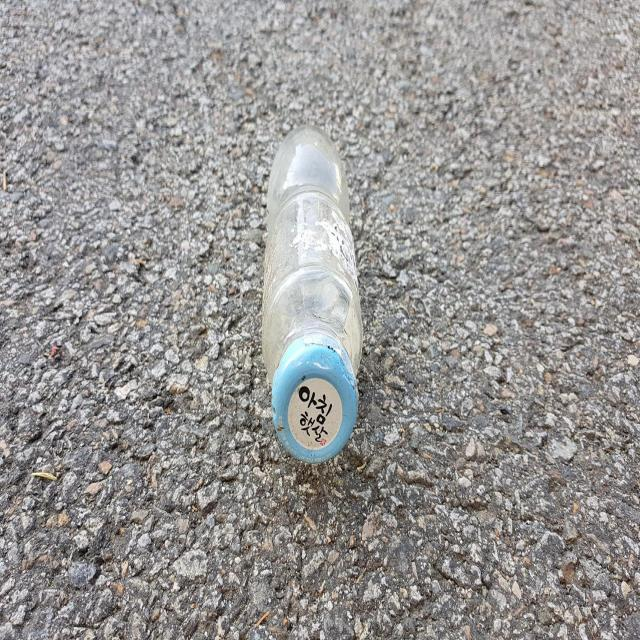glass: (262, 126, 363, 463)
